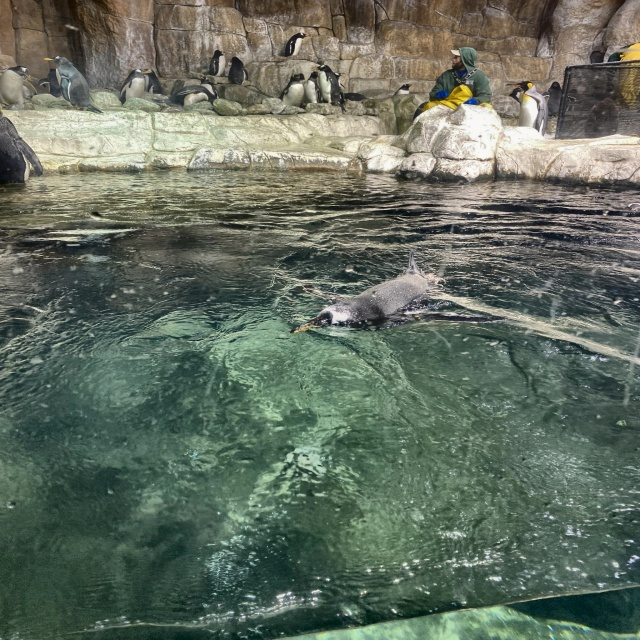penguin: (290, 248, 507, 334), (44, 56, 106, 114), (0, 110, 44, 191), (502, 82, 549, 137), (311, 63, 345, 108), (538, 81, 577, 117), (1, 66, 32, 110), (120, 69, 152, 105), (277, 73, 305, 110), (173, 85, 215, 107), (285, 32, 310, 58), (226, 56, 248, 85), (210, 48, 227, 78), (395, 83, 414, 97)
